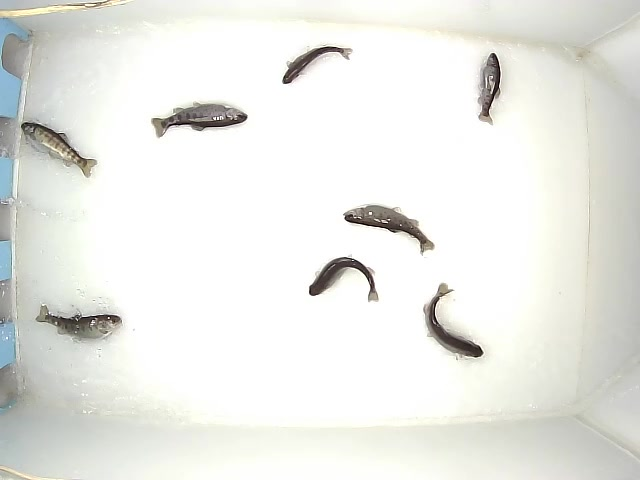fish: (343, 205, 435, 256), (423, 283, 484, 359), (21, 122, 98, 178), (151, 101, 248, 138), (309, 257, 379, 302), (35, 304, 122, 339), (282, 46, 353, 84), (477, 53, 501, 126)
